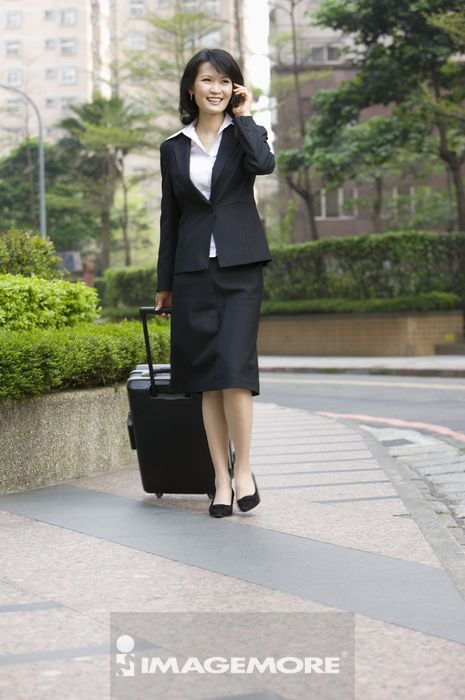talk: (197, 74, 253, 116)
